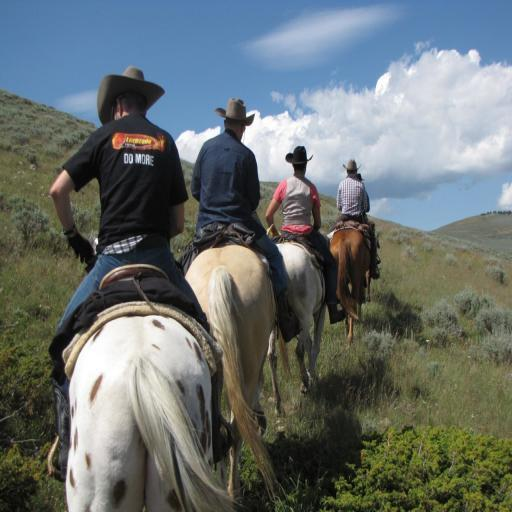Horse: (65, 315, 245, 511), (180, 220, 282, 497), (268, 234, 330, 418), (329, 225, 375, 341)
